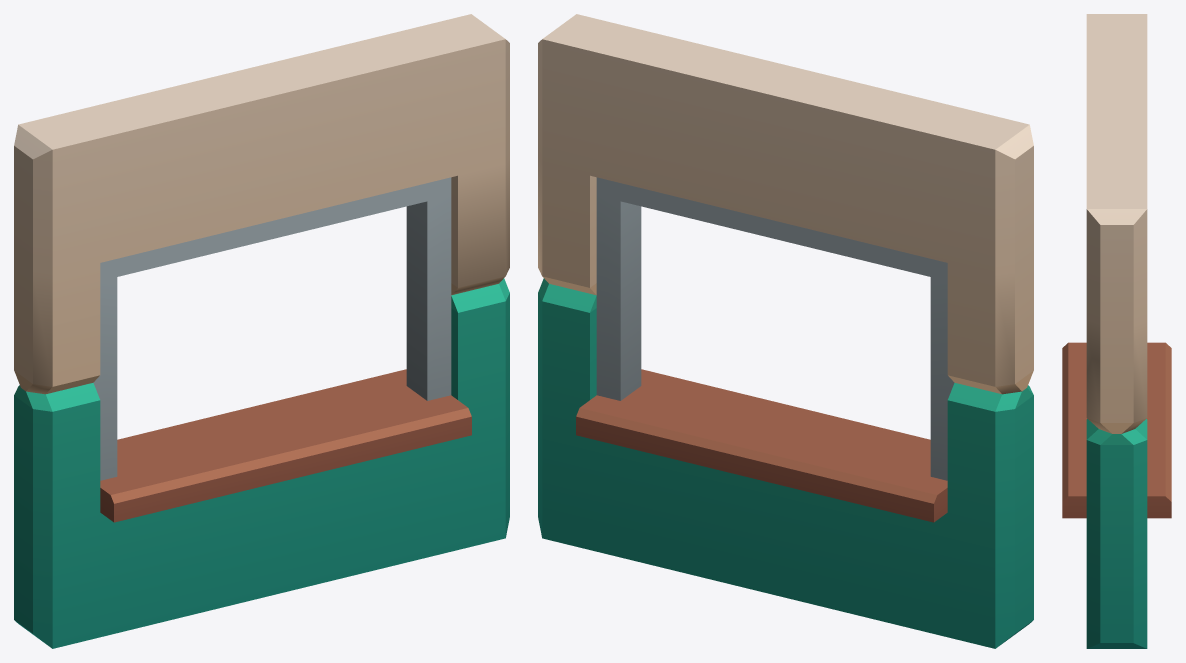
The model's file is wall_orderwindow.obj.
The picture shows the model from 3 angles, left to right: view 1: azimuth 30°, elevation 25°; view 2: azimuth 150°, elevation 25°; view 3: azimuth 270°, elevation 25°; orthographic projection. The views are drawn at different scales.
Visible parts, largest first — view 1: wall_orderwindow_Cube.050; view 2: wall_orderwindow_Cube.050; view 3: wall_orderwindow_Cube.050.
Part boxes in pixels (bbox=[...]): wall_orderwindow_Cube.050: bbox=[14, 14, 509, 648]; wall_orderwindow_Cube.050: bbox=[538, 14, 1033, 648]; wall_orderwindow_Cube.050: bbox=[1062, 14, 1171, 648].
Bounding box in the file's own units: 4 × 4 × 0.9.
Materials: 1 (1 with a texture image).
